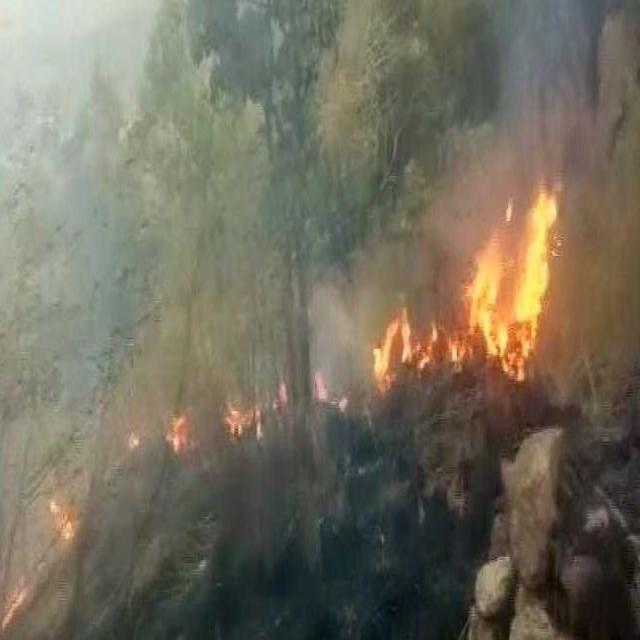Fire: (433, 210, 558, 360)
Smoke: (406, 29, 612, 271)
